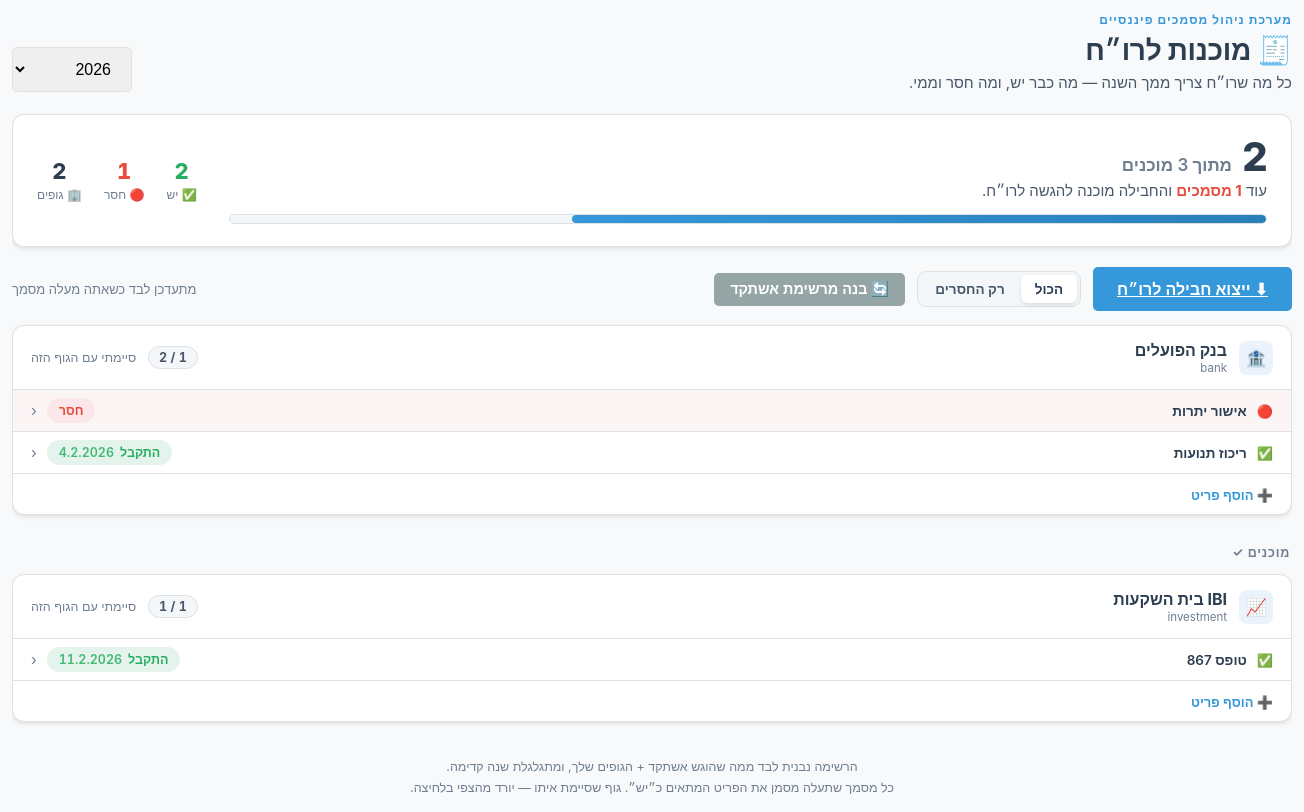
Test: ReadinessPage › מתג "רק החסרים" מסתיר פריטים שהתקבלו
Expected: the text "אישור יתרות" is shown, [1172, 402, 1247, 418]
Expected: the text "ריכוז תנועות" is shown, [1174, 444, 1247, 460]
Click the button "רק החסרים" at point(970, 289), box [921, 275, 1019, 303]
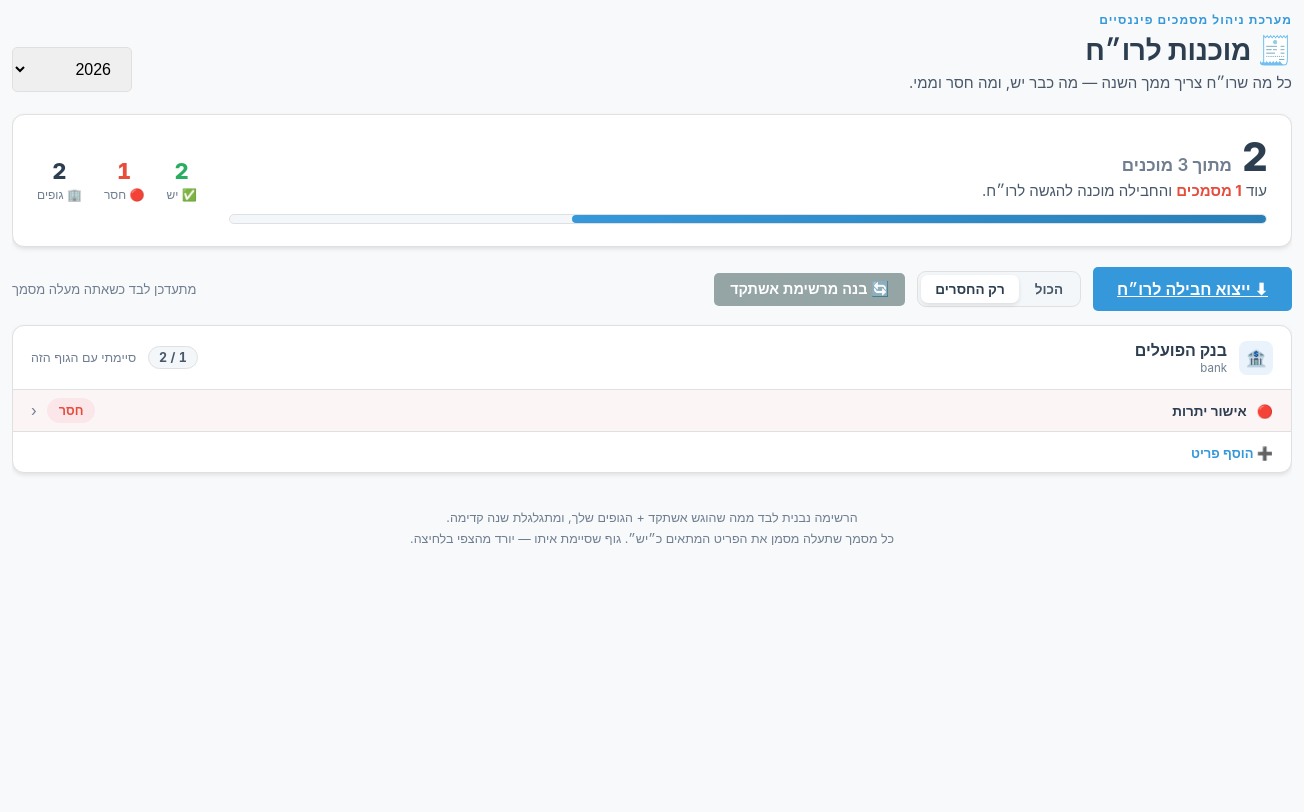
Expected: the text "אישור יתרות" is shown, [1172, 402, 1247, 418]
Now the button "ריכוז תנועות" is gone
Now the text "IBI בית השקעות" is gone
